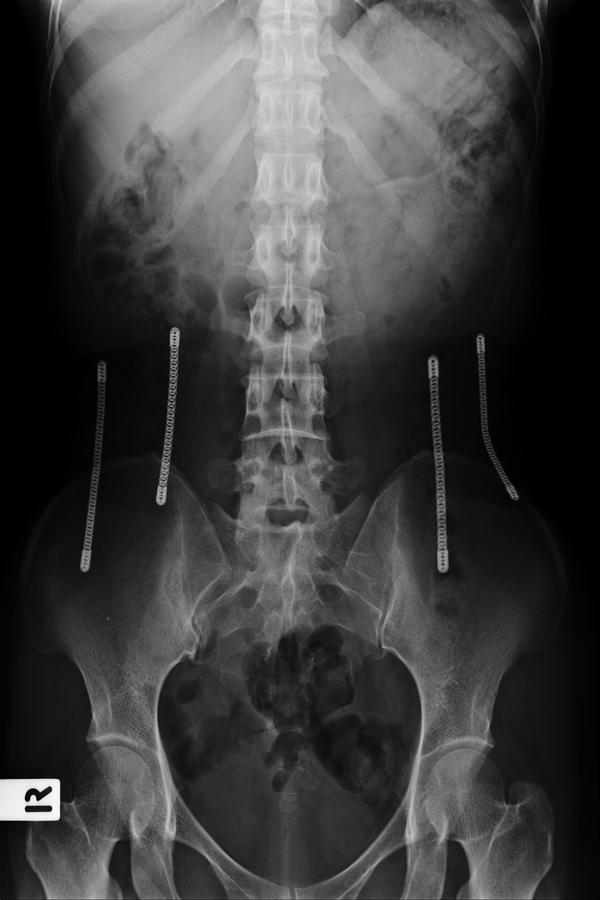not lumbar scoliosis: (247, 154, 325, 529)
